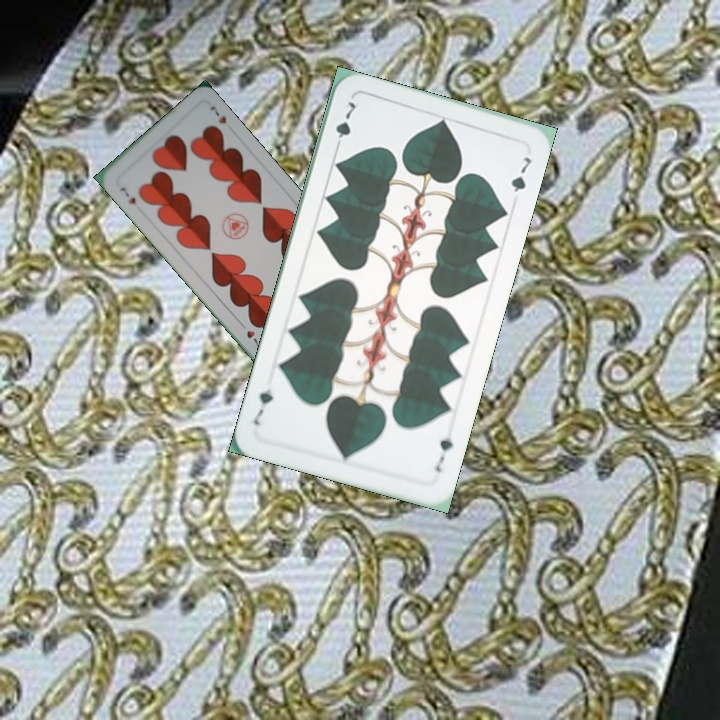G7: (330, 97, 359, 154), (431, 433, 456, 475)
H7: (116, 183, 138, 207)
